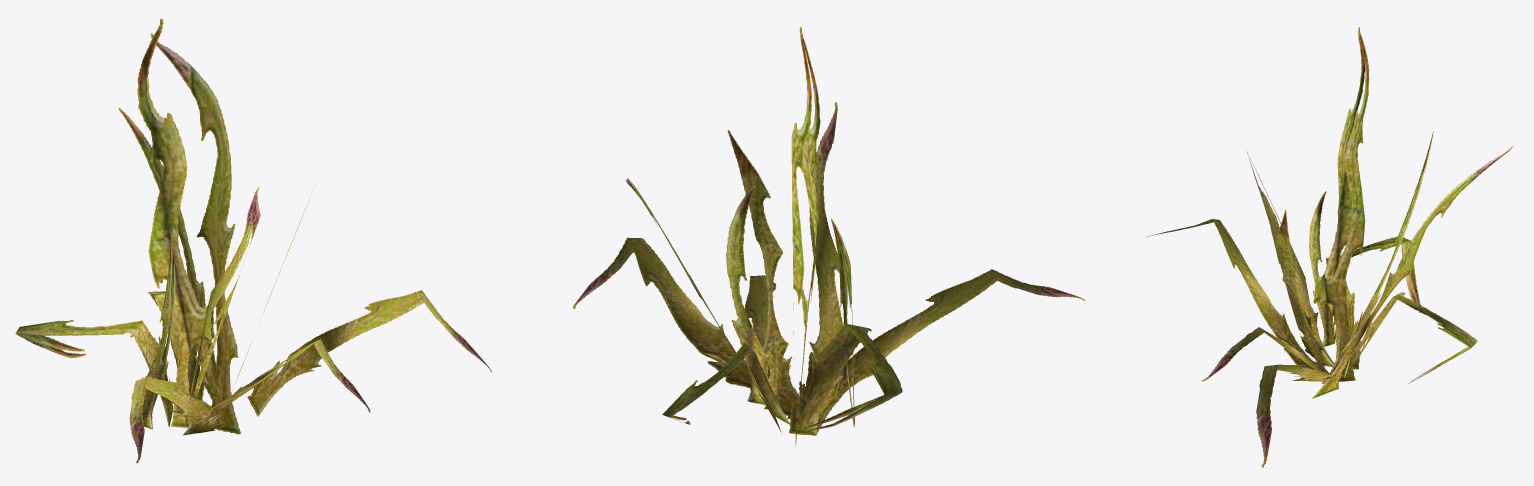
File: core_leaf_razorgrass_field_a1_l1.fbx
3 renders of one model, left to right at view 1: azimuth 30°, elevation 25°; view 2: azimuth 150°, elevation 25°; view 3: azimuth 270°, elevation 25°, orthographic. The views are drawn at different scales.
Visible parts, largest first — view 1: mesh_node; view 2: mesh_node; view 3: mesh_node.
Part boxes in pixels (left/top/right/bottom): mesh_node: left=15, top=18, right=491, bottom=463; mesh_node: left=573, top=26, right=1085, bottom=447; mesh_node: left=1146, top=27, right=1513, bottom=467.
Bounding box in the file's own units: 1.56 × 1.41 × 1.36.
